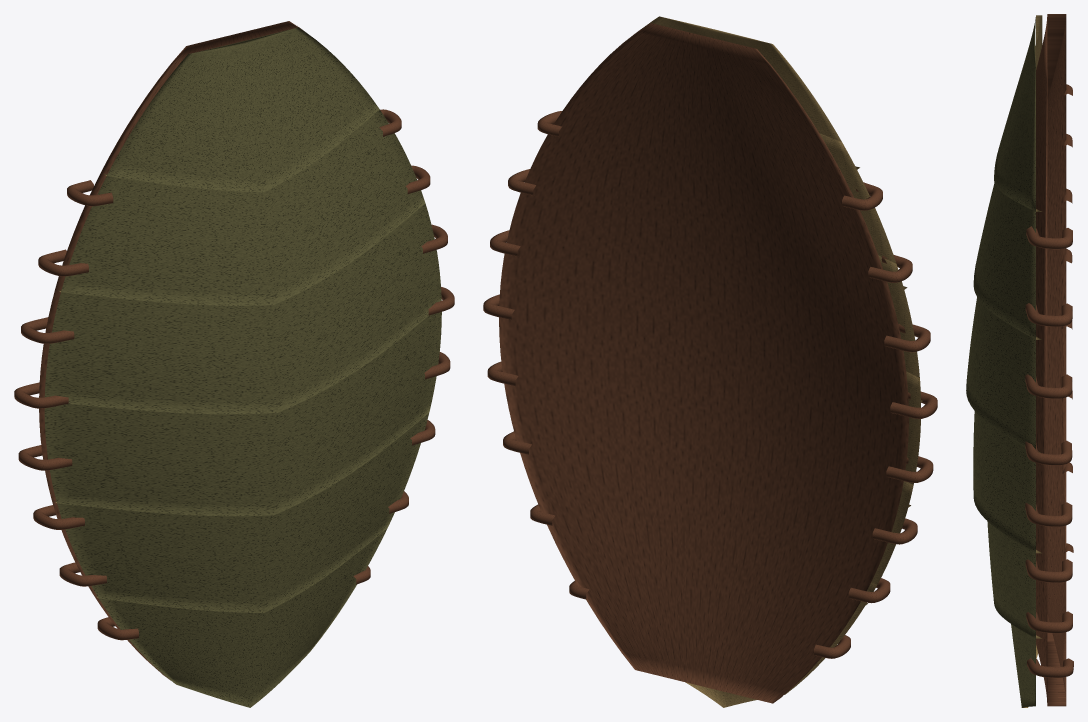
Rendered from drake_scale.glb.
3 renders of one model, left to right at view 1: azimuth 30°, elevation 25°; view 2: azimuth 150°, elevation 25°; view 3: azimuth 270°, elevation 25°, orthographic. The views are drawn at different scales.
Parts seen in each view (by area): view 1: Dark olive bronze dragon scale, Thick russet leather backing; view 2: Thick russet leather backing, Weathered scale edges; view 3: Dark olive bronze dragon scale, Thick russet leather backing, Weathered scale edges.
Boxes of the visible parts, left/top/right/bottom form: Dark olive bronze dragon scale: left=44, top=27, right=441, bottom=707; Thick russet leather backing: left=14, top=21, right=454, bottom=680; Thick russet leather backing: left=483, top=23, right=937, bottom=703; Weathered scale edges: left=642, top=16, right=922, bottom=707; Dark olive bronze dragon scale: left=966, top=17, right=1035, bottom=707; Thick russet leather backing: left=1025, top=14, right=1073, bottom=706; Weathered scale edges: left=1022, top=15, right=1042, bottom=707.
Size of the model in its own units: 0.3153 by 0.464 by 0.0677.
3 materials, 3 textured.
